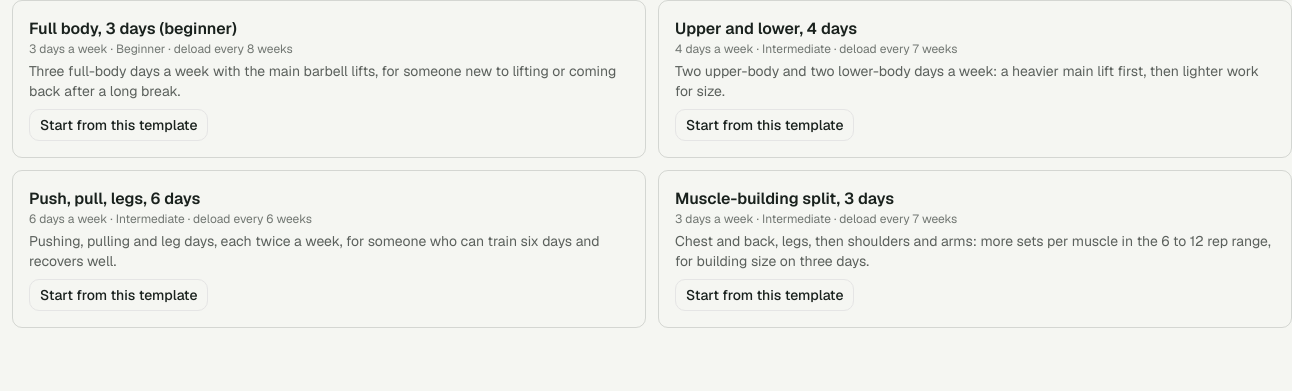
ProgramBuilder › says why when the template cannot be adapted
This screenshot has width=1292, height=391.
What coordinates should you click on to do the following:
click the button "Start from this template" below "Full body, 3 days (beginner)"
I would click on:
 (119, 125)
Its box is left=29, top=109, right=208, bottom=141.
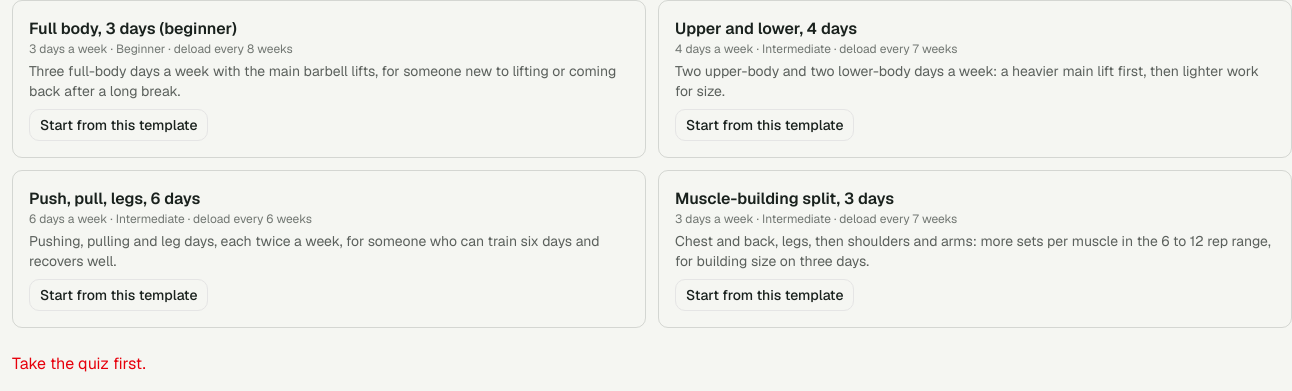
Check: the message reads "Take the quiz first.", box left=12, top=353, right=146, bottom=374
